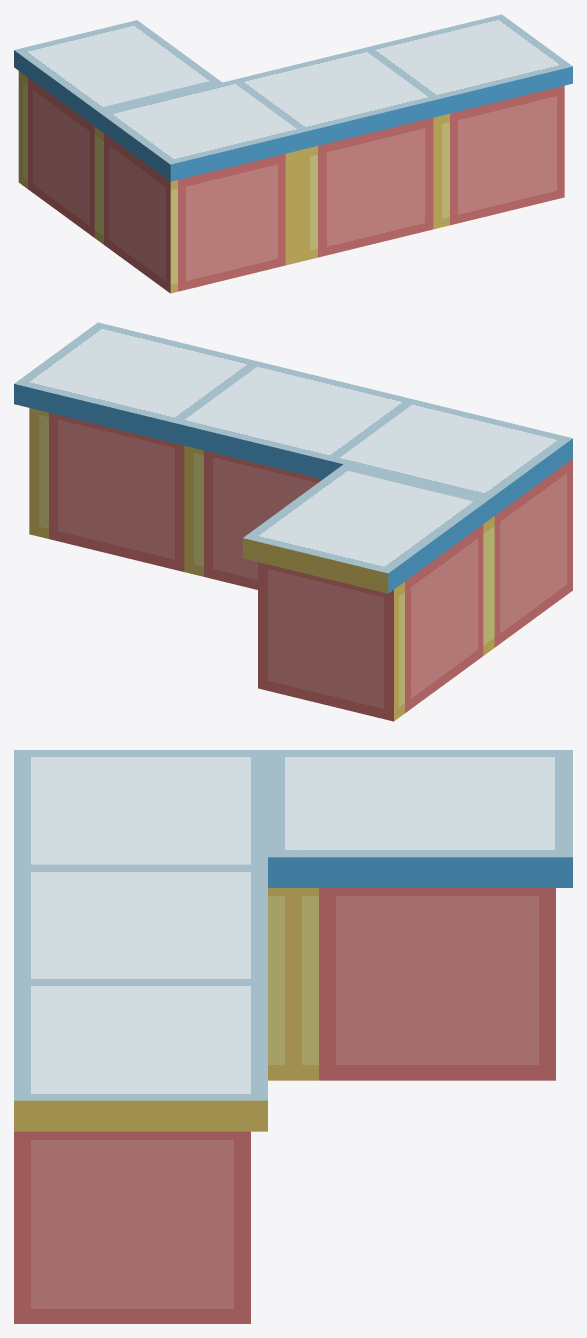
Rendered from counter_untextured.fbx.
3 renders of one model, top to bottom at view 1: azimuth 30°, elevation 25°; view 2: azimuth 150°, elevation 25°; view 3: azimuth 270°, elevation 25°, orthographic. The views are drawn at different scales.
Parts seen in each view (by area): view 1: cube_1, cube_7, cube_2, cube, cube_6, cube_3, cube_4, cube_5; view 2: cube_5, cube_7, cube_4, cube_6, cube_3, cube, cube_1, cube_2; view 3: cube_5, cube_7, cube_4, cube_6, cube, cube_3, cube_1.
Boxes of the visible parts, x1,y1,x2,y2 form: cube_1: (94, 126, 301, 293); cube_7: (433, 85, 564, 229); cube_2: (302, 118, 433, 261); cube: (94, 79, 301, 181); cube_6: (362, 14, 572, 117); cube_3: (231, 48, 433, 149); cube_4: (14, 20, 217, 125); cube_5: (18, 71, 94, 237); cube_5: (258, 524, 483, 721); cube_7: (29, 408, 184, 571); cube_4: (243, 468, 483, 593); cube_6: (14, 322, 262, 444); cube_3: (178, 362, 417, 479); cube: (334, 400, 572, 523); cube_1: (483, 459, 572, 655); cube_2: (184, 445, 322, 589); cube_5: (285, 888, 555, 1080); cube_7: (14, 1131, 250, 1323); cube_4: (285, 750, 572, 887); cube_6: (14, 979, 267, 1131); cube: (14, 750, 284, 887); cube_3: (14, 864, 267, 978); cube_1: (268, 888, 284, 1080).
Bounding box in the file's own units: 306 × 93.75 × 206.
2 materials, 2 textured.
